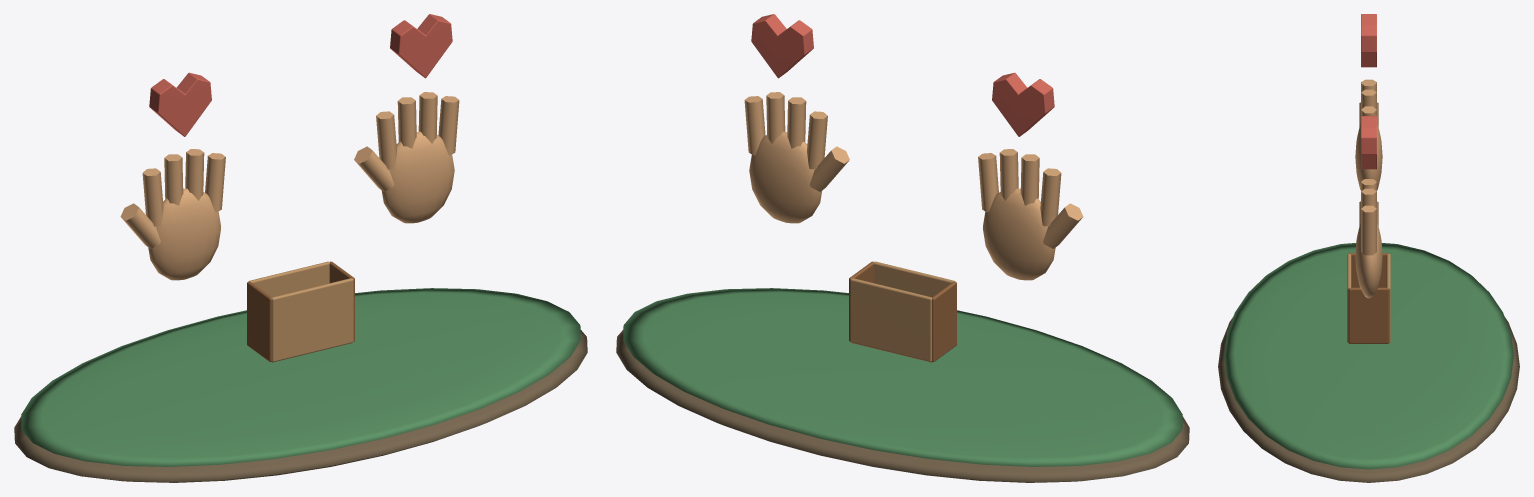
The model's file is complete-first-double-thanks.glb.
The picture shows the model from 3 angles, left to right: view 1: azimuth 30°, elevation 25°; view 2: azimuth 150°, elevation 25°; view 3: azimuth 270°, elevation 25°; orthographic projection. The views are drawn at different scales.
Parts seen in each view (by area): view 1: complete-first-double-thanks_surface_01, complete-first-double-thanks_surface_02, complete-first-double-thanks_surface_00, complete-first-double-thanks_surface_04, complete-first-double-thanks_surface_03, complete-first-double-thanks_surface_05; view 2: complete-first-double-thanks_surface_01, complete-first-double-thanks_surface_02, complete-first-double-thanks_surface_00, complete-first-double-thanks_surface_04, complete-first-double-thanks_surface_03, complete-first-double-thanks_surface_05; view 3: complete-first-double-thanks_surface_01, complete-first-double-thanks_surface_00, complete-first-double-thanks_surface_02, complete-first-double-thanks_surface_05, complete-first-double-thanks_surface_03, complete-first-double-thanks_surface_04.
Boxes of the visible parts, <box> form: complete-first-double-thanks_surface_01: <box>21,288,580,466</box>; complete-first-double-thanks_surface_02: <box>120,92,459,280</box>; complete-first-double-thanks_surface_00: <box>14,330,587,482</box>; complete-first-double-thanks_surface_04: <box>249,261,353,361</box>; complete-first-double-thanks_surface_03: <box>149,14,452,136</box>; complete-first-double-thanks_surface_05: <box>247,261,354,362</box>; complete-first-double-thanks_surface_01: <box>623,288,1182,466</box>; complete-first-double-thanks_surface_02: <box>744,92,1083,280</box>; complete-first-double-thanks_surface_00: <box>616,330,1189,482</box>; complete-first-double-thanks_surface_04: <box>850,261,954,361</box>; complete-first-double-thanks_surface_03: <box>751,14,1054,136</box>; complete-first-double-thanks_surface_05: <box>849,261,956,362</box>; complete-first-double-thanks_surface_01: <box>1224,243,1513,469</box>; complete-first-double-thanks_surface_00: <box>1218,317,1519,482</box>; complete-first-double-thanks_surface_02: <box>1355,79,1382,298</box>; complete-first-double-thanks_surface_05: <box>1348,253,1389,343</box>; complete-first-double-thanks_surface_03: <box>1361,14,1376,169</box>; complete-first-double-thanks_surface_04: <box>1347,253,1390,342</box>.
Size of the model in its own units: 4.56 by 2.83 by 2.5.
